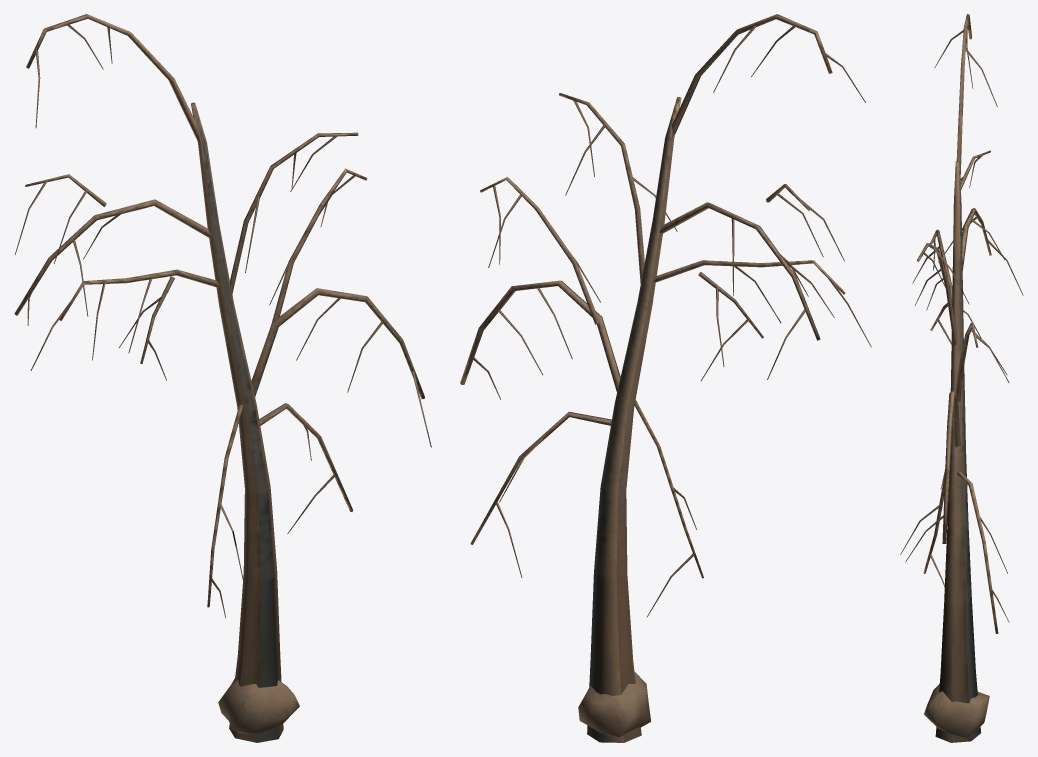
File: dry-hairy-tree.glb
The picture shows the model from 3 angles, left to right: view 1: azimuth 30°, elevation 25°; view 2: azimuth 150°, elevation 25°; view 3: azimuth 270°, elevation 25°; orthographic projection. The views are drawn at different scales.
Visible parts, largest first — view 1: dry-hairy-tree; view 2: dry-hairy-tree; view 3: dry-hairy-tree.
Boxes of the visible parts, bbox=[...] form: dry-hairy-tree: bbox=[14, 14, 431, 742]; dry-hairy-tree: bbox=[460, 14, 871, 742]; dry-hairy-tree: bbox=[900, 14, 1023, 742].
Bounding box in the file's own units: 2.97 × 5.35 × 0.9352.
1 material, 1 textured.
